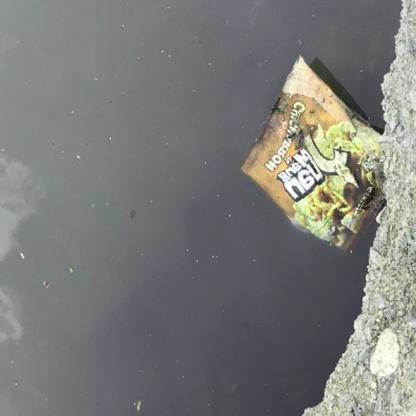Trash: (243, 54, 397, 246)
